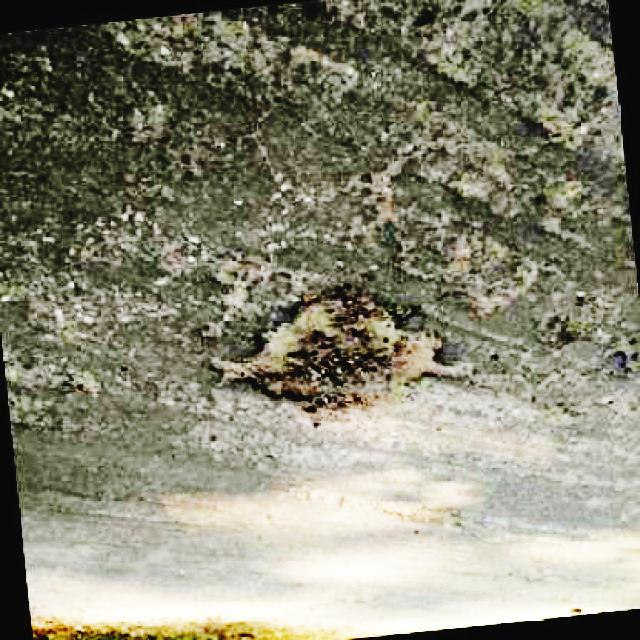pothole: (211, 286, 460, 416)
